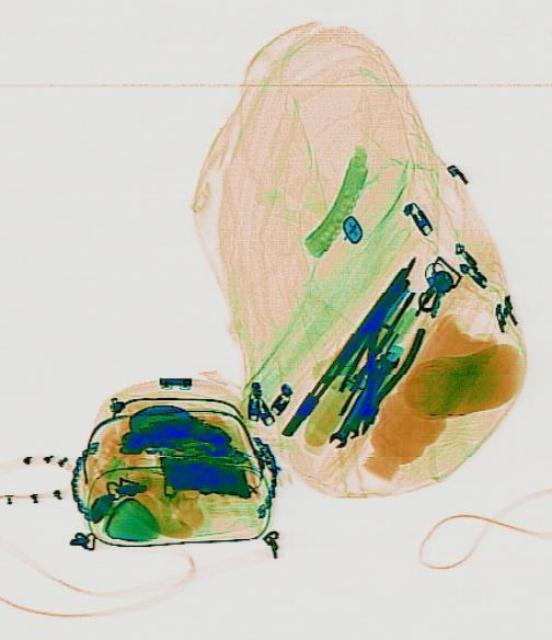Pliers: (335, 310, 424, 442)
Wrench: (324, 343, 397, 451)
